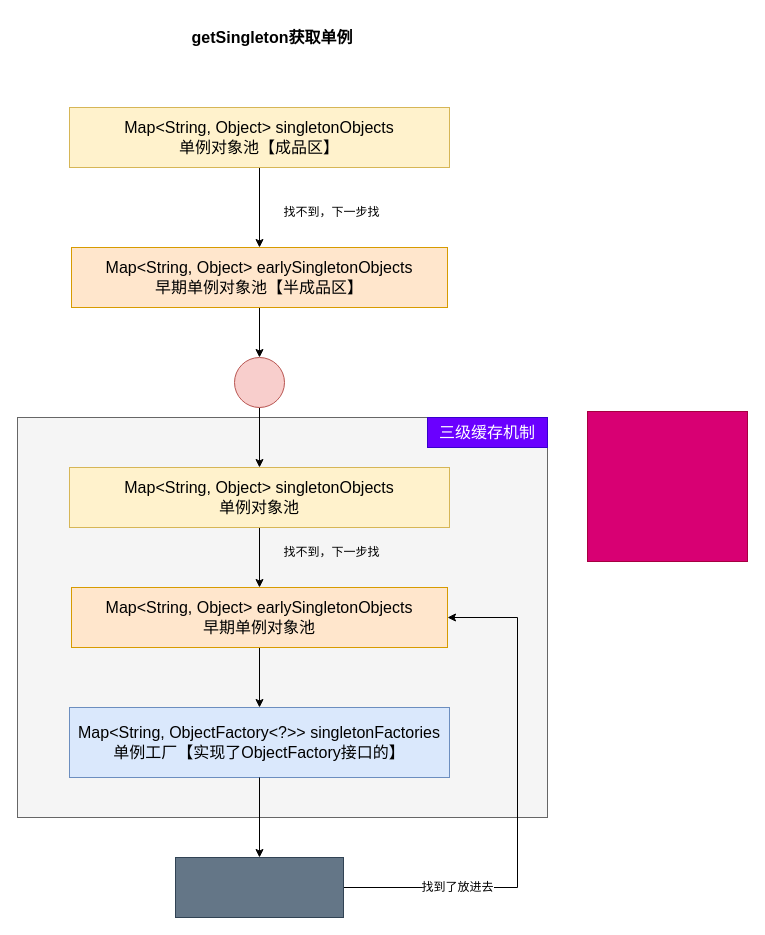
Image size: 765x935. Some labels were removed from this diagram. The box of each missing label's shape, as (x1, y1, x2, y2) in pixels:
加锁: (234, 356, 284, 408)
循环引用：默认关闭 A { B b; } B { A a; }: (586, 410, 748, 562)
获取对象 工厂.getObject(): (174, 856, 344, 918)
